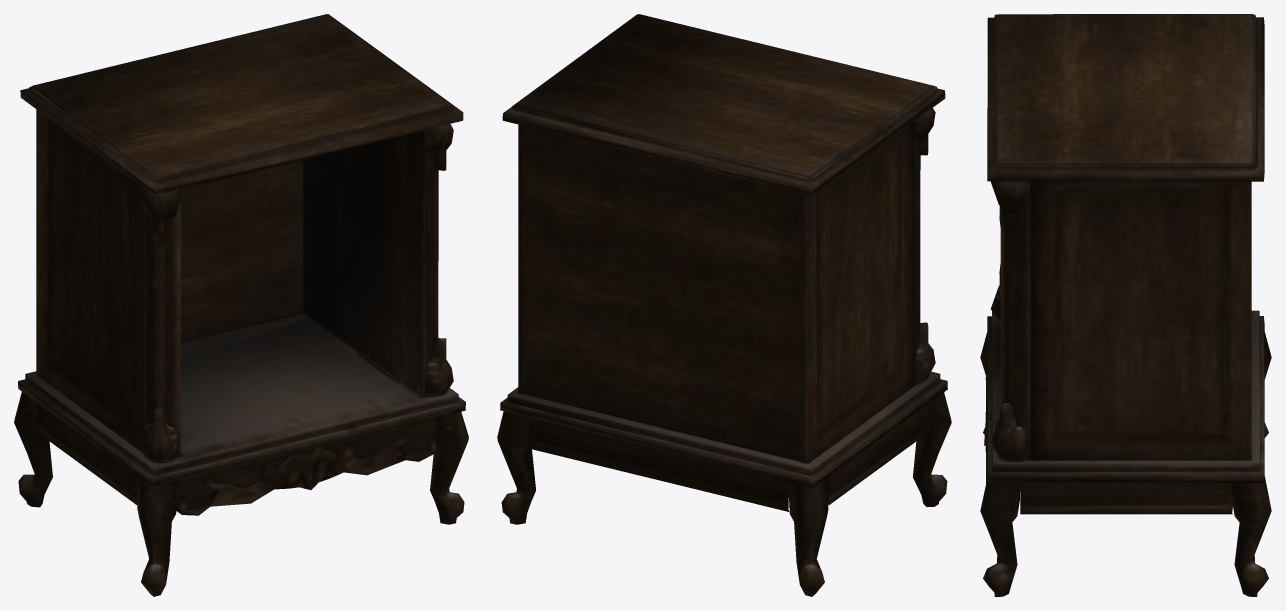
Rendered from nightstand.glb.
3 renders of one model, left to right at view 1: azimuth 30°, elevation 25°; view 2: azimuth 150°, elevation 25°; view 3: azimuth 270°, elevation 25°, orthographic. The views are drawn at different scales.
Visible parts, largest first — view 1: lo; view 2: lo; view 3: lo.
Boxes of the visible parts, box(x1,y1,x2,y2) form: lo: box(14, 14, 468, 596); lo: box(497, 14, 951, 596); lo: box(980, 14, 1271, 596).
Size of the model in its own units: 0.571 by 0.7 by 0.4274.
1 material, 1 textured.
